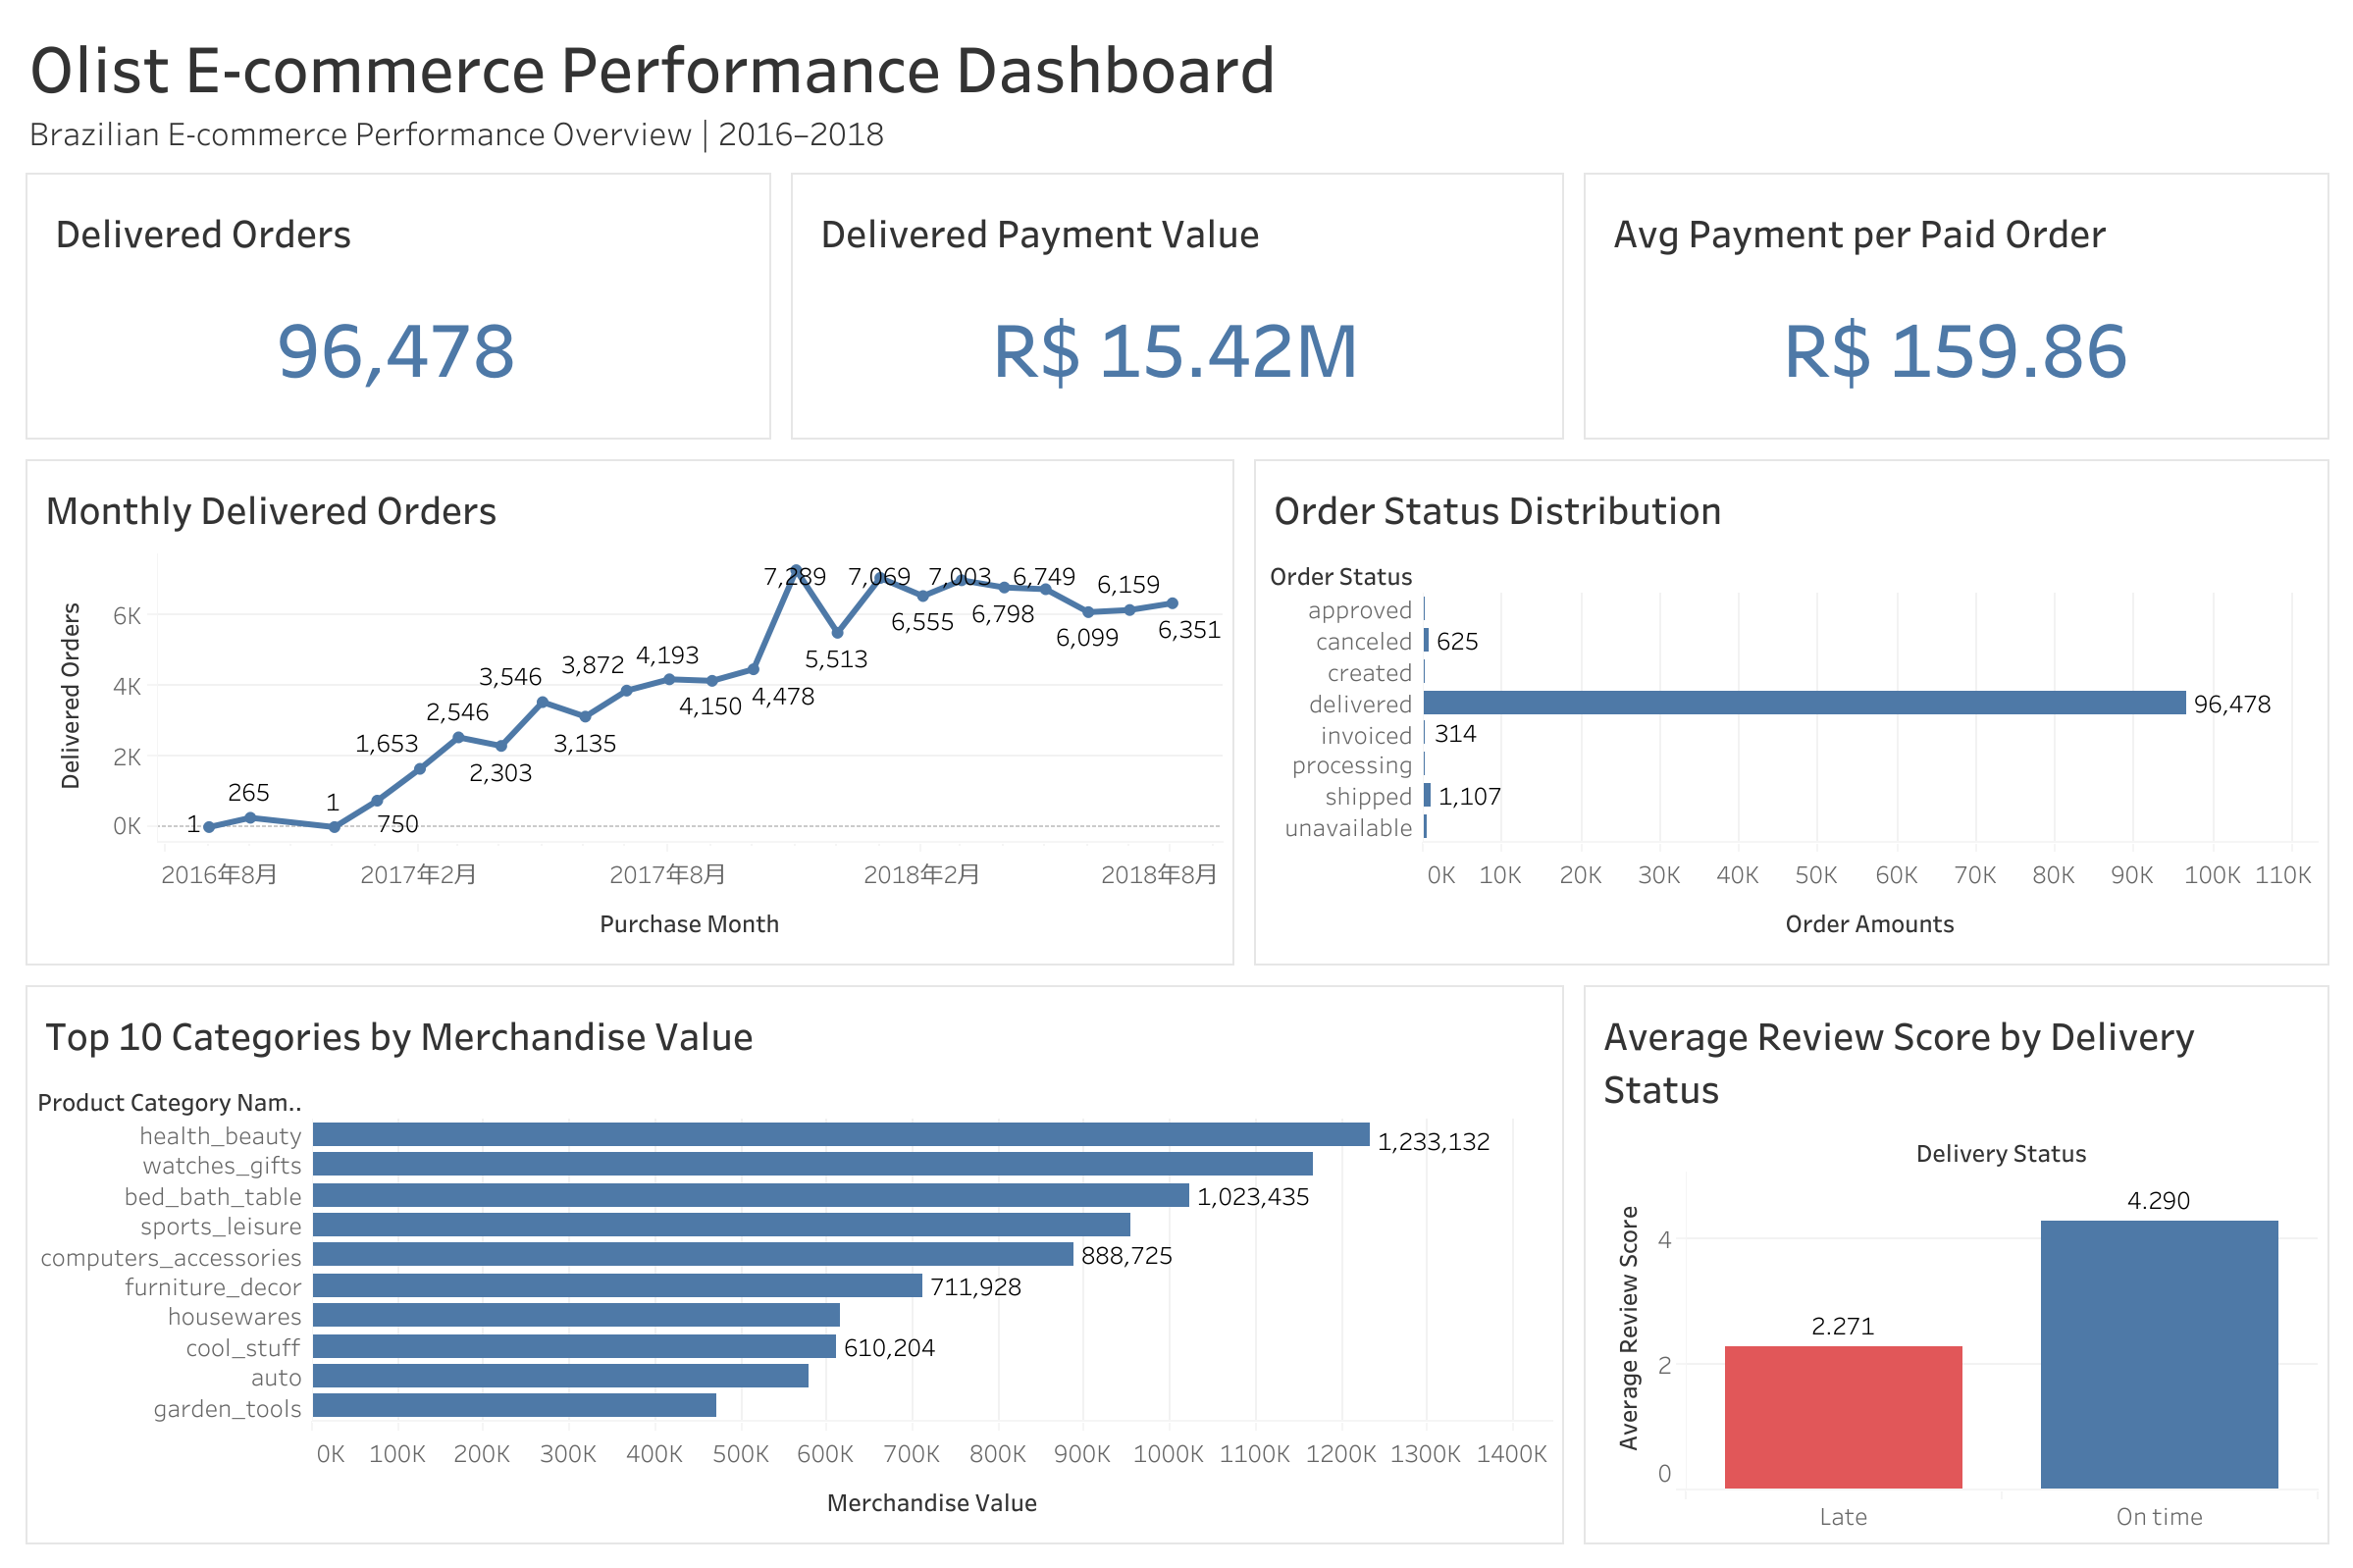

The page's visual inventory and layout, read from the dashboard file:
{"tool":"tableau","page":{"name":"Olist E-commerce Dashboard","canvas":[1200,800],"ordinal":0},"visuals":[{"type":"title","box":[8,8,1184,75]},{"type":"worksheet","title":"KPI - Delivered Orders","mark":"Automatic","box":[8,83,390,146]},{"type":"worksheet","title":"KPI - Payment Value","mark":"Automatic","box":[398,83,404,146]},{"type":"worksheet","title":"KPI - Average Payment","mark":"Automatic","box":[802,83,390,146]},{"type":"worksheet","title":"Monthly Orders","mark":"Automatic","rows":["Calculation_4876527220572161"],"cols":["order_purchase_timestamp"],"box":[8,229,626,268]},{"type":"worksheet","title":"Order Status","mark":"Automatic","rows":["order_status"],"cols":["Calculation_4876527220572161"],"box":[634,229,558,268]},{"type":"worksheet","title":"Top Categories","mark":"Automatic","rows":["product_category_name_english"],"cols":["price"],"box":[8,497,794,295]},{"type":"worksheet","title":"Delivery & Reviews","mark":"Automatic","rows":["review_score"],"cols":["Calculation_4876527415988226"],"box":[802,497,390,295]}]}

Visuals, with their boxes in screenshot pixels (x1, y1, x2, y2), scaled from the page's 1200x800 canvas onto the 2353x1568 screenshot:
title: (x1=16, y1=16, x2=2337, y2=163)
"KPI - Delivered Orders" worksheet: (x1=16, y1=163, x2=780, y2=448)
"KPI - Payment Value" worksheet: (x1=780, y1=163, x2=1573, y2=448)
"KPI - Average Payment" worksheet: (x1=1573, y1=163, x2=2337, y2=448)
"Monthly Orders" worksheet: (x1=16, y1=448, x2=1243, y2=974)
"Order Status" worksheet: (x1=1243, y1=448, x2=2337, y2=974)
"Top Categories" worksheet: (x1=16, y1=974, x2=1573, y2=1552)
"Delivery & Reviews" worksheet: (x1=1573, y1=974, x2=2337, y2=1552)
